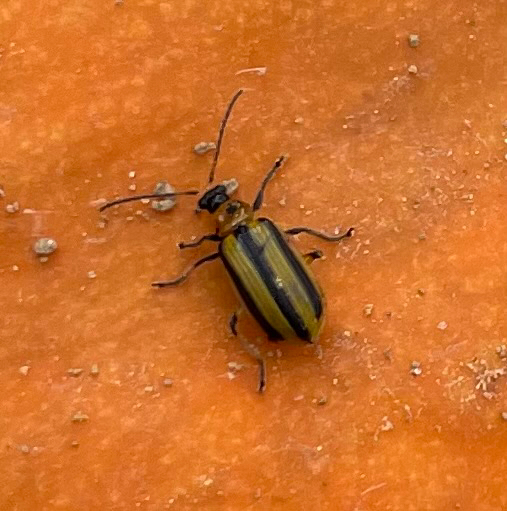potato_beetle: (58, 42, 410, 425)
